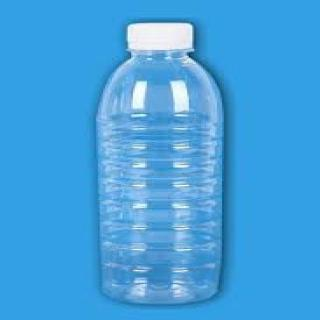Anorganik: (90, 17, 240, 307)
